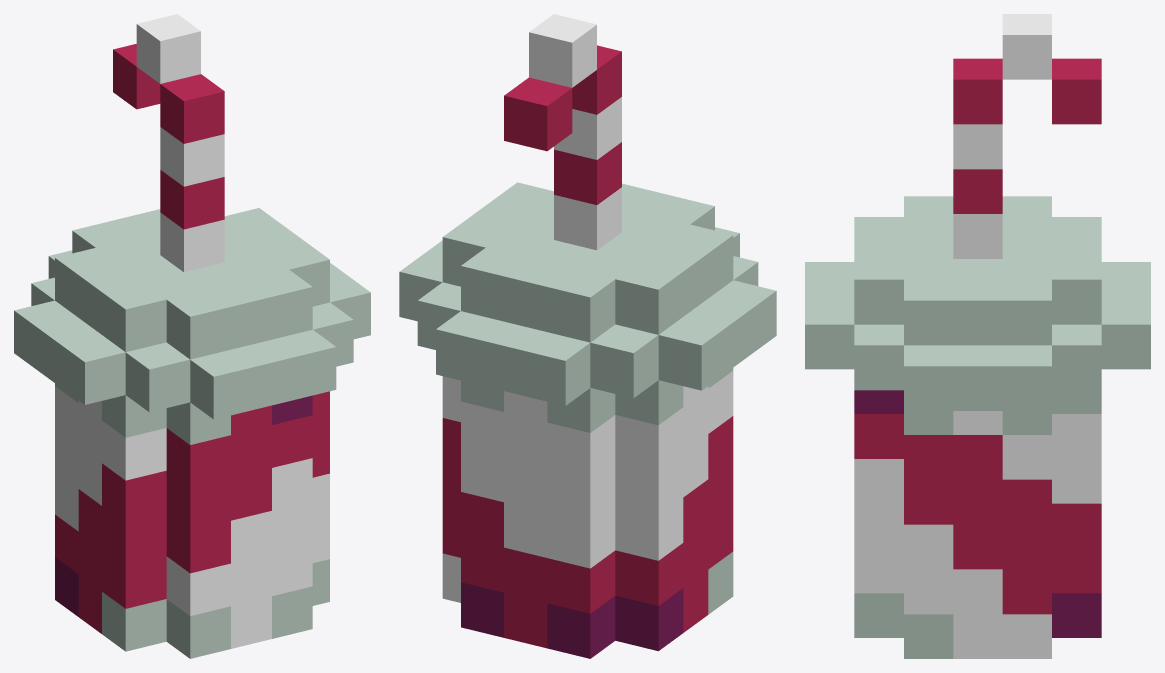
Rendered from drinkred.obj.
3 renders of one model, left to right at view 1: azimuth 30°, elevation 25°; view 2: azimuth 150°, elevation 25°; view 3: azimuth 270°, elevation 25°, orthographic. The views are drawn at different scales.
Bounding box in the file's own units: 0.7 × 1.3 × 0.7.
1 material, 1 textured.
